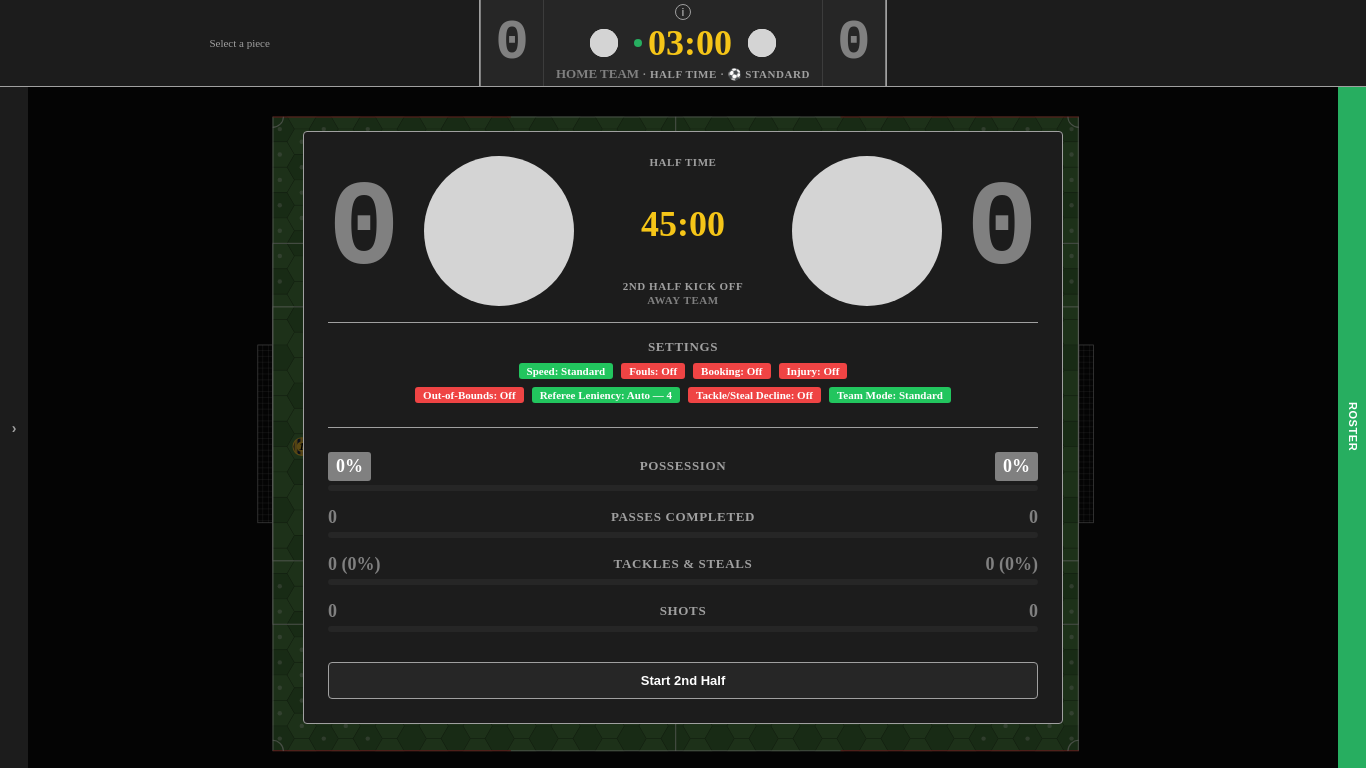
Test: substitution affordance (SUB-01/02) › clicking during a stoppage renders the substitution modal in its actionable (click-select) presentation
The image size is (1366, 768).
Click the button with aria-label "Open substitutions" at (1352, 427), box 1342,398 -> 1362,457
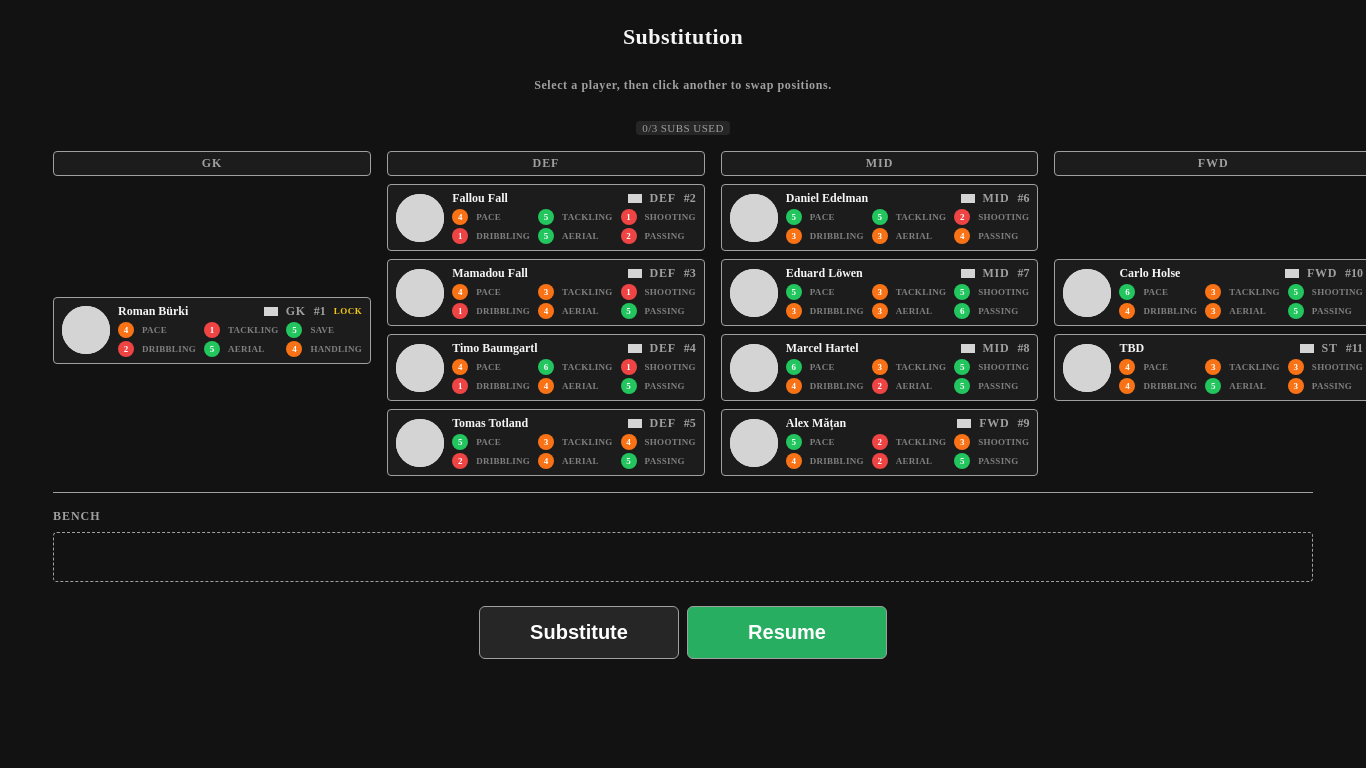
Now the heading "Substitution" is shown, box 623,24 -> 743,50
Now the text "Select a player, then click another to swap positions." is shown, box 534,78 -> 832,93
